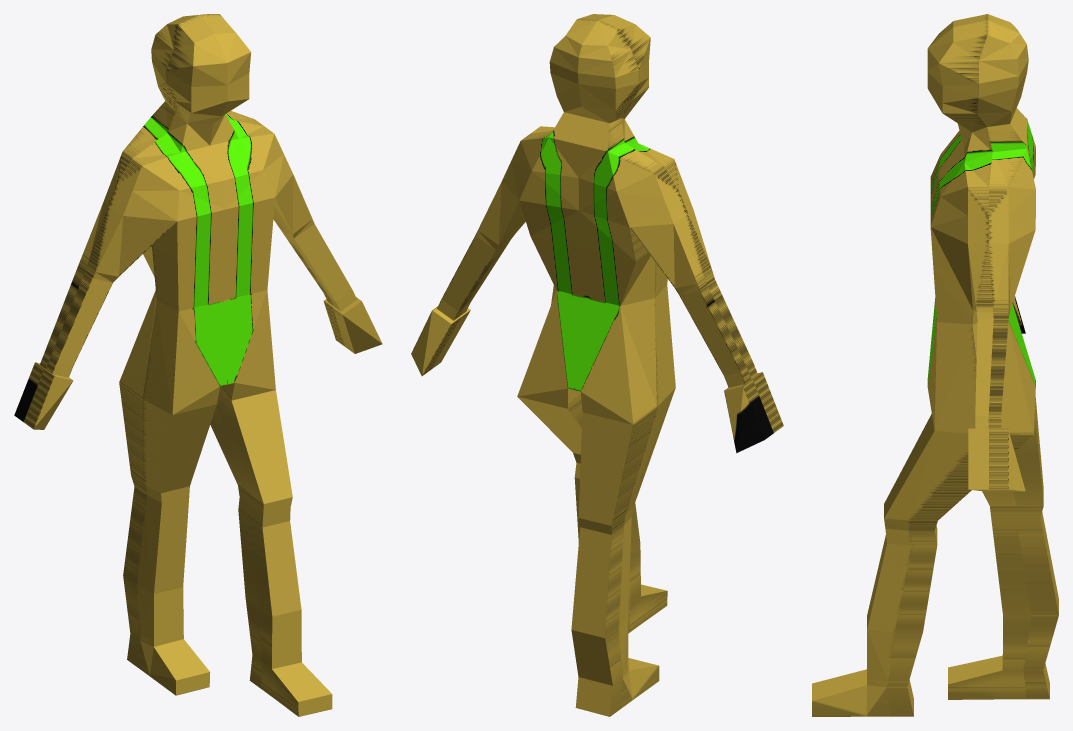
The picture shows the model from 3 angles, left to right: view 1: azimuth 30°, elevation 25°; view 2: azimuth 150°, elevation 25°; view 3: azimuth 270°, elevation 25°; orthographic projection. The views are drawn at different scales.
Visible parts, largest first — view 1: Borat; view 2: Borat; view 3: Borat.
Boxes of the visible parts, x1,y1,x2,y2 form: Borat: (14, 14, 382, 716); Borat: (411, 14, 783, 716); Borat: (812, 14, 1058, 716).
Size of the model in its own units: 1.79 by 3.21 by 1.05.
